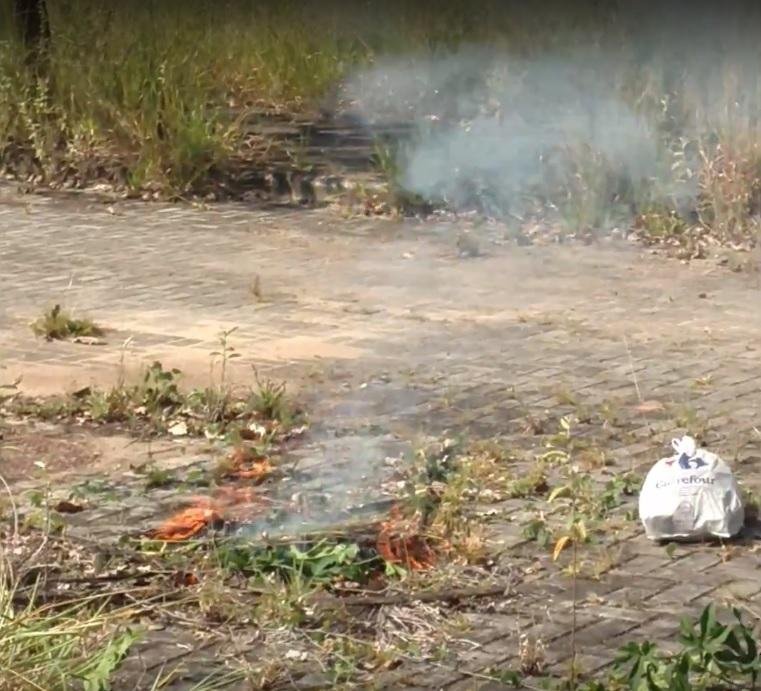Fire: (154, 452, 279, 543), (362, 509, 463, 570)
